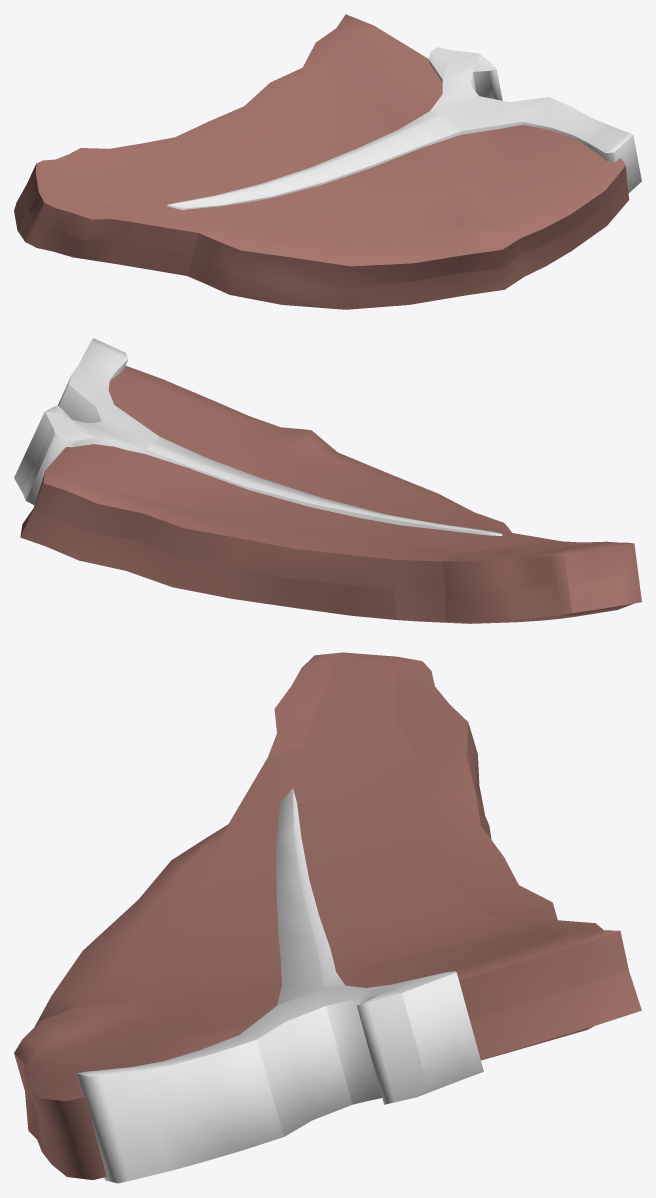
Rendered from tbone.fbx.
3 renders of one model, top to bottom at view 1: azimuth 30°, elevation 25°; view 2: azimuth 150°, elevation 25°; view 3: azimuth 270°, elevation 25°, orthographic. The views are drawn at different scales.
Visible parts, largest first — view 1: polySurface88, polySurface89; view 2: polySurface88, polySurface89; view 3: polySurface88, polySurface89.
Part boxes in pixels (x1=…): polySurface88: x1=14, y1=14, x2=629, y2=309; polySurface89: x1=167, y1=47, x2=641, y2=210; polySurface88: x1=20, y1=366, x2=641, y2=623; polySurface89: x1=14, y1=338, x2=502, y2=535; polySurface88: x1=14, y1=652, x2=641, y2=1179; polySurface89: x1=76, y1=788, x2=483, y2=1183.
Size of the model in its own units: 14.51 by 3.53 by 8.89.
